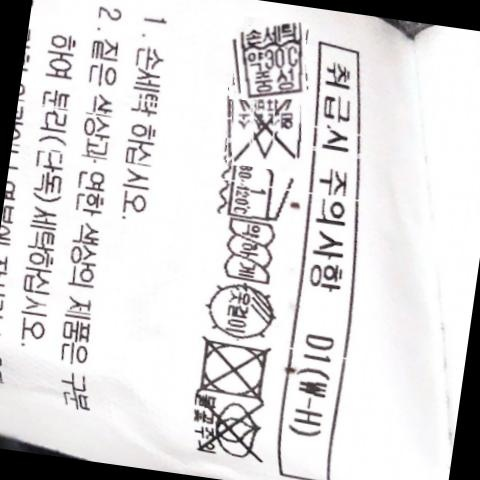DN_tumble_dry: (190, 336, 274, 400)
hand_wash: (232, 25, 310, 95)
iron_low: (223, 163, 290, 222)
line_dry_in_shade: (202, 283, 281, 339)
wring: (221, 219, 276, 285)
